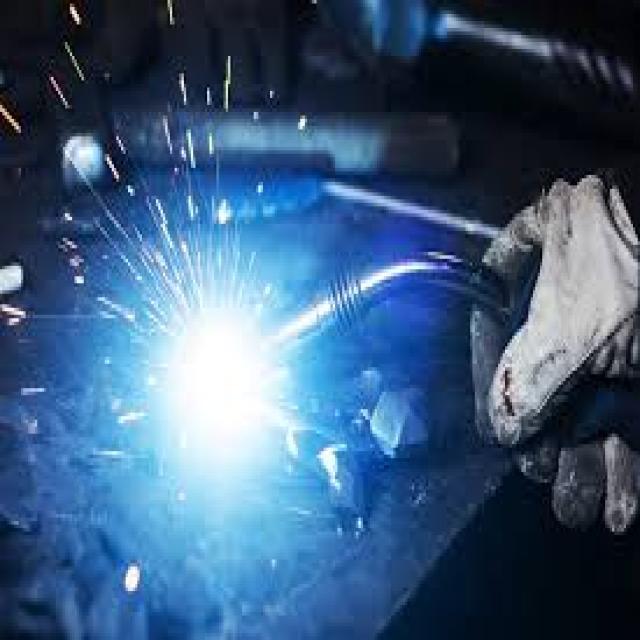welding: (173, 315, 284, 459)
